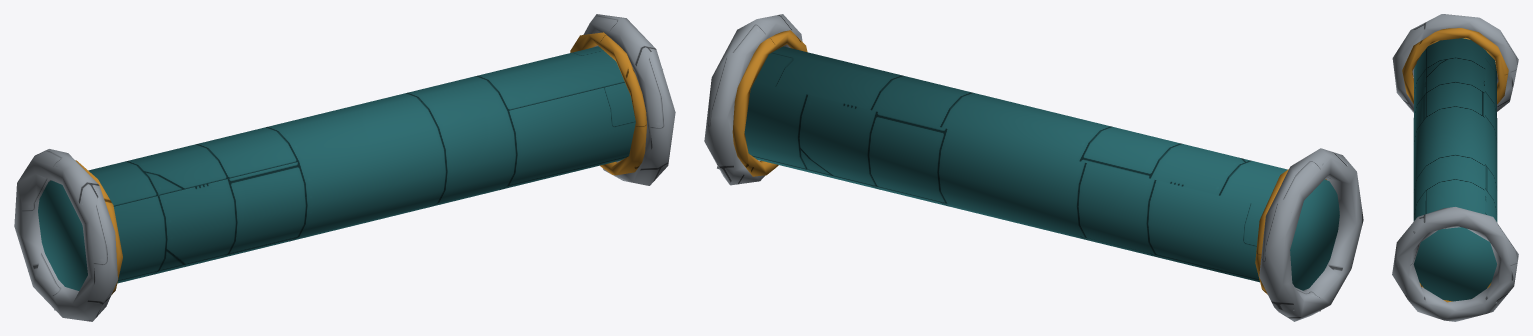
File: pressure_pipe_straight_lod1.glb
3 views of the same model, side by side, from view 1: azimuth 30°, elevation 25°; view 2: azimuth 150°, elevation 25°; view 3: azimuth 270°, elevation 25° (orthographic). The views are drawn at different scales.
Visible parts, largest first — view 1: LOD1_Armor, LOD1_BrushedMetal, LOD1_Livery; view 2: LOD1_Armor, LOD1_BrushedMetal, LOD1_Livery; view 3: LOD1_Armor, LOD1_BrushedMetal, LOD1_Livery.
Part boxes in pixels (x1,y1,x2,y2): LOD1_Armor: (38, 46, 635, 290); LOD1_BrushedMetal: (14, 14, 675, 321); LOD1_Livery: (75, 32, 646, 294); LOD1_Armor: (744, 46, 1339, 290); LOD1_BrushedMetal: (704, 14, 1363, 321); LOD1_Livery: (732, 30, 1326, 294); LOD1_Armor: (1413, 38, 1497, 301); LOD1_BrushedMetal: (1392, 14, 1518, 321); LOD1_Livery: (1402, 28, 1508, 302).
Size of the model in its own units: 4.17 by 1.11 by 1.11.
Materials: 3 (3 with a texture image).
